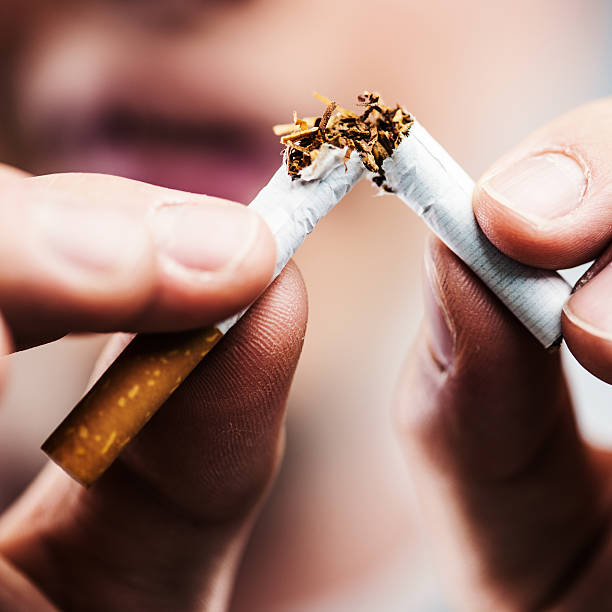cigarette: (30, 91, 372, 494), (352, 103, 579, 349)
